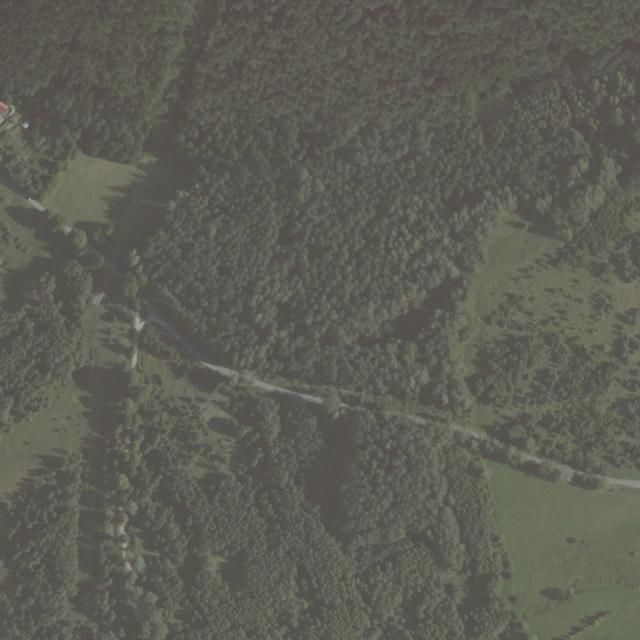greenland: (0, 375, 529, 640), (466, 215, 640, 474), (0, 301, 157, 521), (485, 429, 640, 620), (0, 195, 114, 426), (0, 370, 119, 508), (39, 133, 151, 248), (96, 156, 157, 295), (142, 120, 170, 155)
unmetalled_road: (247, 377, 324, 408), (129, 307, 148, 369), (199, 360, 242, 381), (606, 476, 640, 488), (26, 196, 47, 214), (90, 289, 107, 307), (62, 225, 73, 235)
